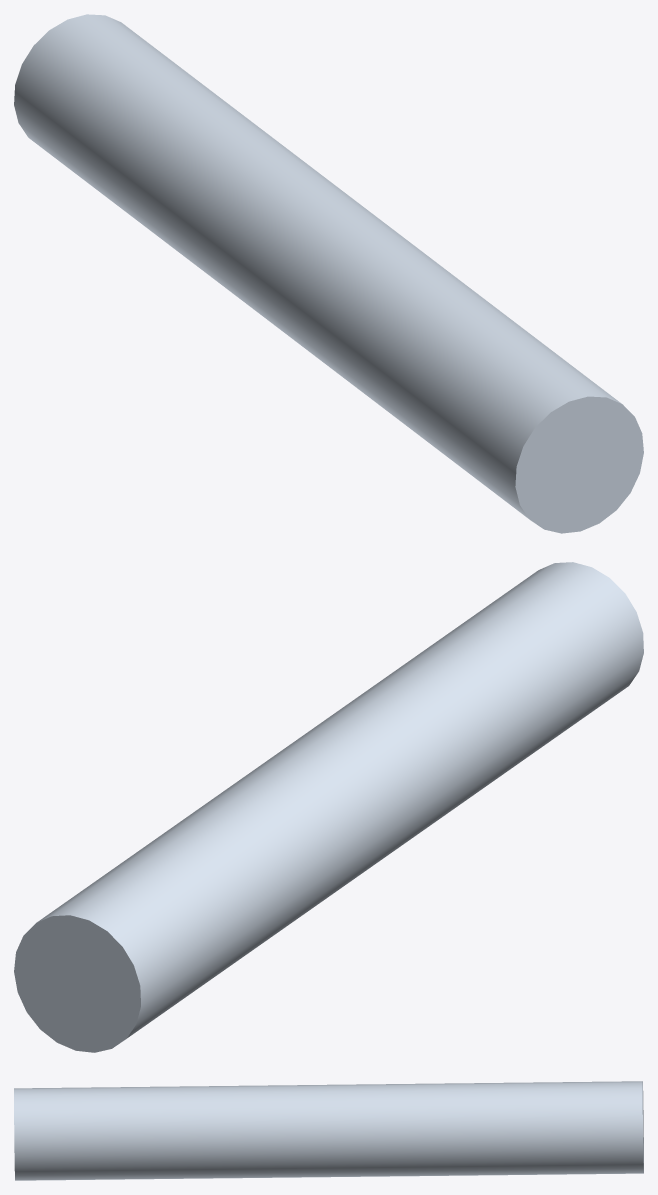
Rendered from RB-032_viewer.glb.
3 renders of one model, top to bottom at view 1: azimuth 30°, elevation 25°; view 2: azimuth 150°, elevation 25°; view 3: azimuth 270°, elevation 25°, orthographic. The views are drawn at different scales.
Visible parts, largest first — view 1: basebody_imported1; view 2: basebody_imported1; view 3: basebody_imported1.
Part boxes in pixels (left/top/right/bottom): basebody_imported1: left=14, top=14, right=643, bottom=533; basebody_imported1: left=14, top=562, right=643, bottom=1052; basebody_imported1: left=14, top=1081, right=643, bottom=1180.
Bounding box in the file's own units: 0.00184 × 0.00198 × 0.0123.
